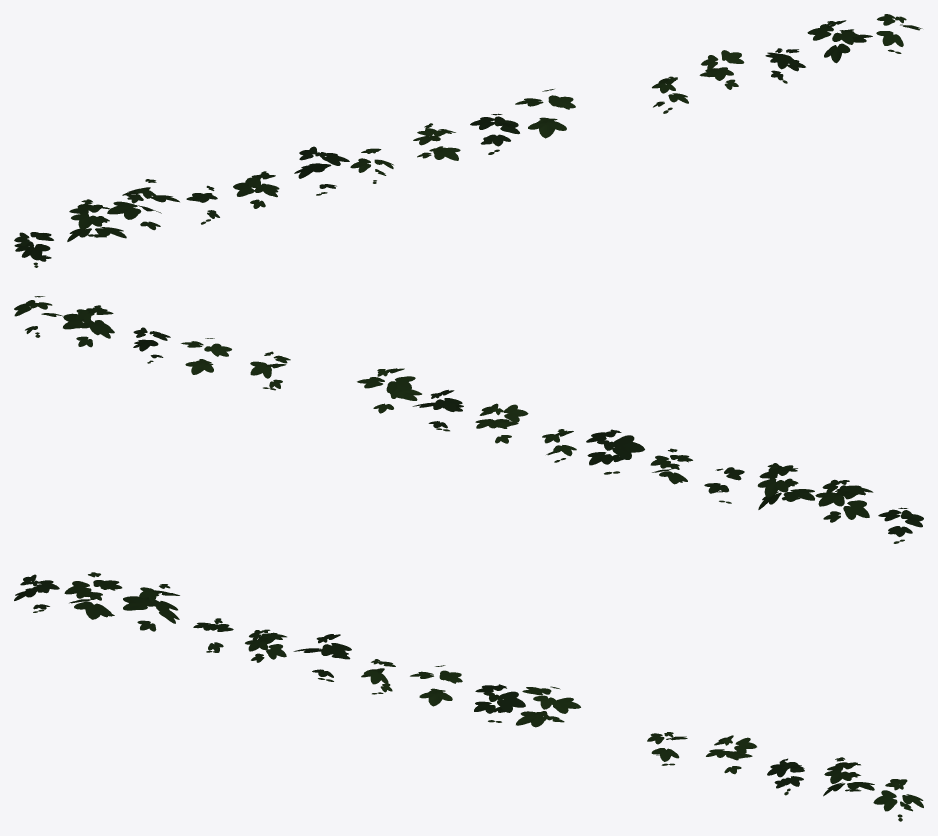
The model's file is ROW_17_SEG2_foliage.dae.
3 views of the same model, one above another, from view 1: azimuth 30°, elevation 25°; view 2: azimuth 150°, elevation 25°; view 3: azimuth 330°, elevation 25° (orthographic).
Visible parts, largest first — view 1: ROW_17_SEG2_foliage; view 2: ROW_17_SEG2_foliage; view 3: ROW_17_SEG2_foliage.
Boxes of the visible parts, x1,y1,x2,y2 form: ROW_17_SEG2_foliage: [14, 14, 922, 267]; ROW_17_SEG2_foliage: [14, 296, 923, 543]; ROW_17_SEG2_foliage: [14, 572, 923, 821].
Bounding box in the file's own units: 4.8 × 0.3508 × 0.2665.
